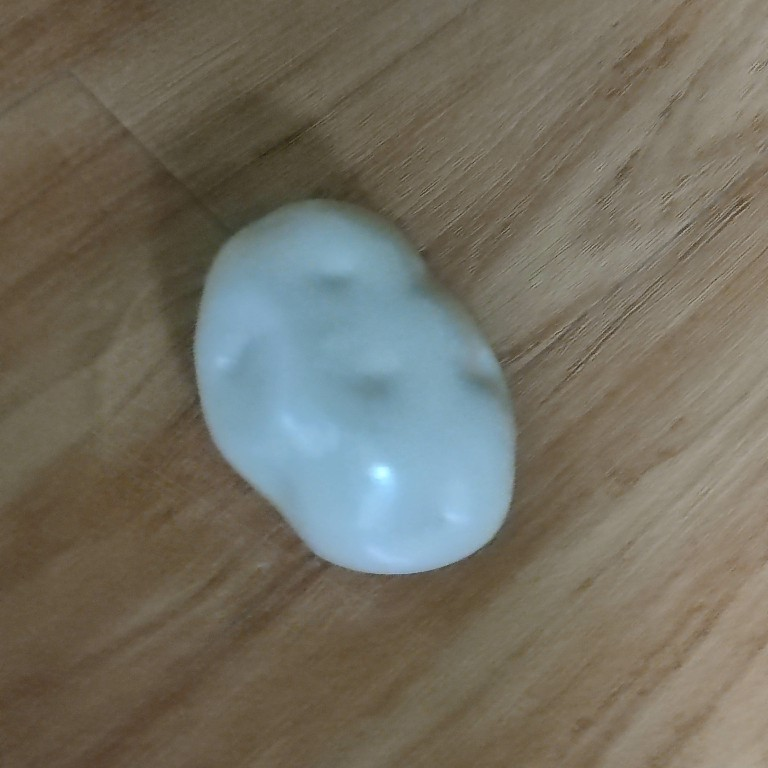fruit_potato: (188, 192, 521, 578)
